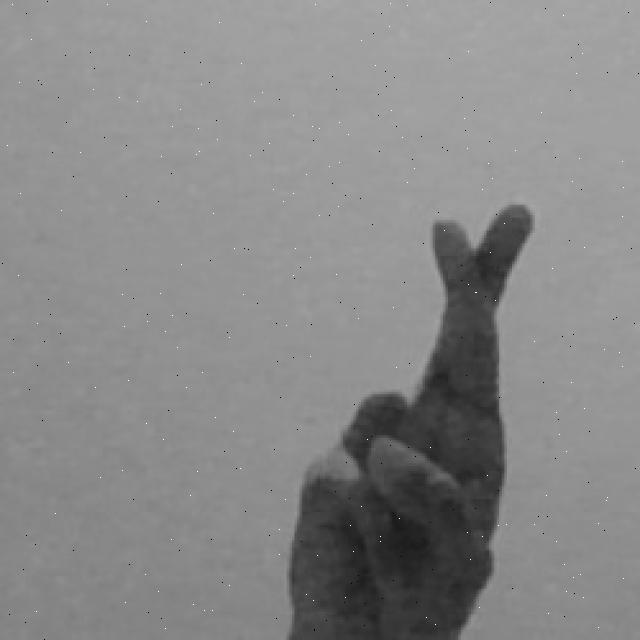R: (282, 197, 542, 640)
